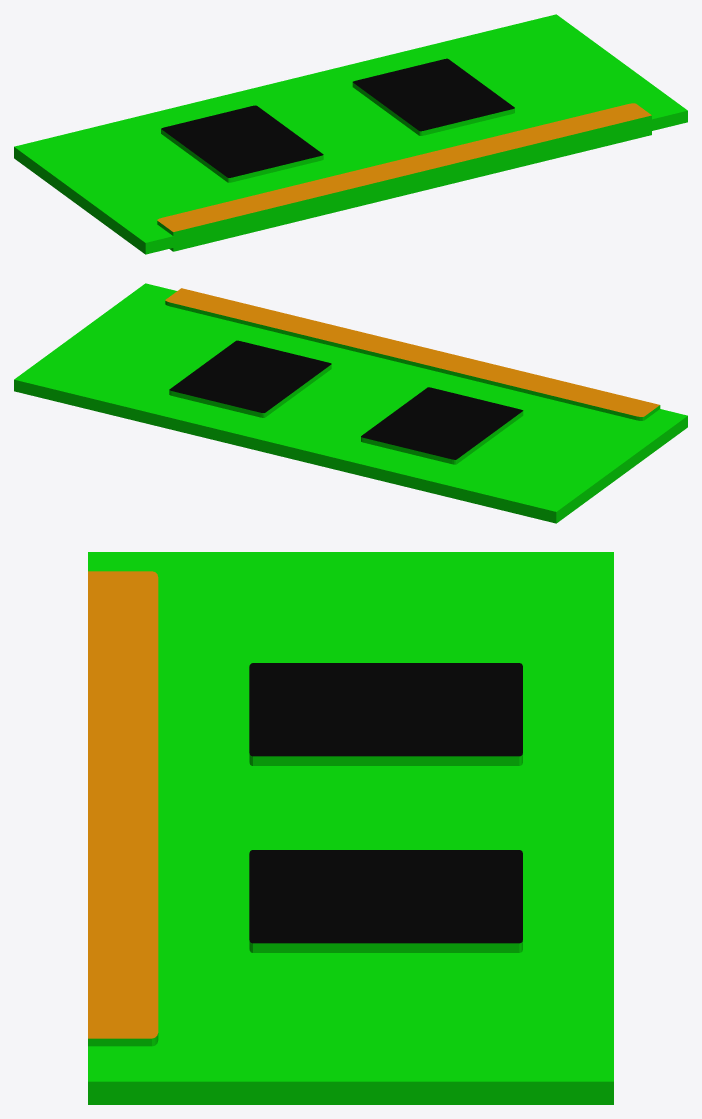
File: main_Scene.fbx
3 views of the same model, one above another, from view 1: azimuth 30°, elevation 25°; view 2: azimuth 150°, elevation 25°; view 3: azimuth 270°, elevation 25° (orthographic). The views are drawn at different scales.
Parts seen in each view (by area): view 1: Cube.002; view 2: Cube.002; view 3: Cube.002.
Part boxes in pixels (x1,y1,x2,y2): Cube.002: (14, 14, 687, 254); Cube.002: (14, 283, 687, 523); Cube.002: (88, 552, 613, 1104).
Bounding box in the file's own units: 476 × 17.17 × 200.
